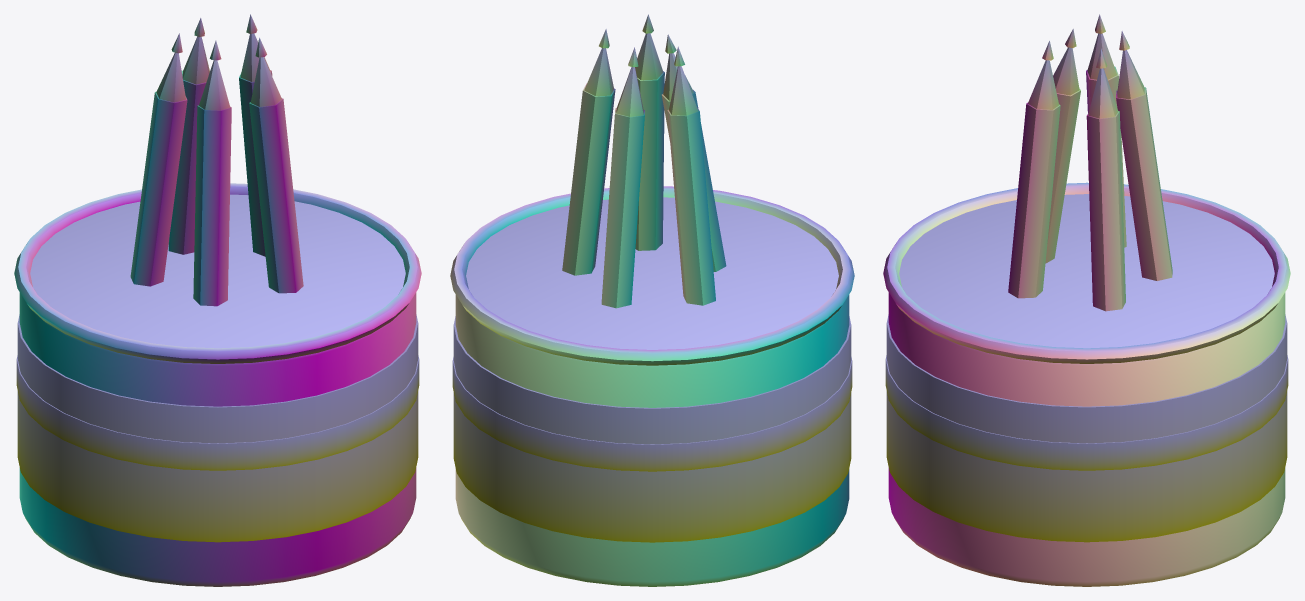
Rendered from env_can.glb.
3 renders of one model, left to right at view 1: azimuth 30°, elevation 25°; view 2: azimuth 150°, elevation 25°; view 3: azimuth 270°, elevation 25°, orthographic.
Parts seen in each view (by area): view 1: env_can_mesh; view 2: env_can_mesh; view 3: env_can_mesh.
Part boxes in pixels (x1,y1,x2,y2): env_can_mesh: (14, 14, 421, 586); env_can_mesh: (450, 14, 854, 586); env_can_mesh: (883, 14, 1290, 586).
Bounding box in the file's own units: 0.822 × 1.06 × 0.822.
